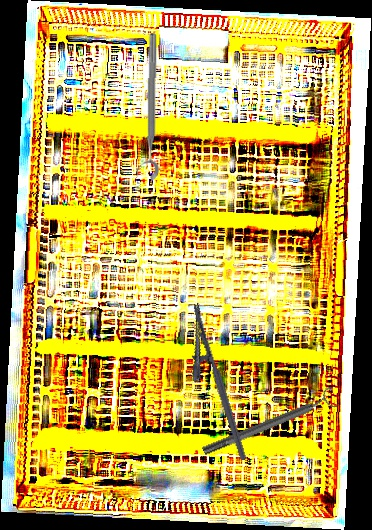Fixation Ring: (198, 386, 341, 461), (134, 32, 162, 182)
Needle Holder: (171, 302, 248, 468)
